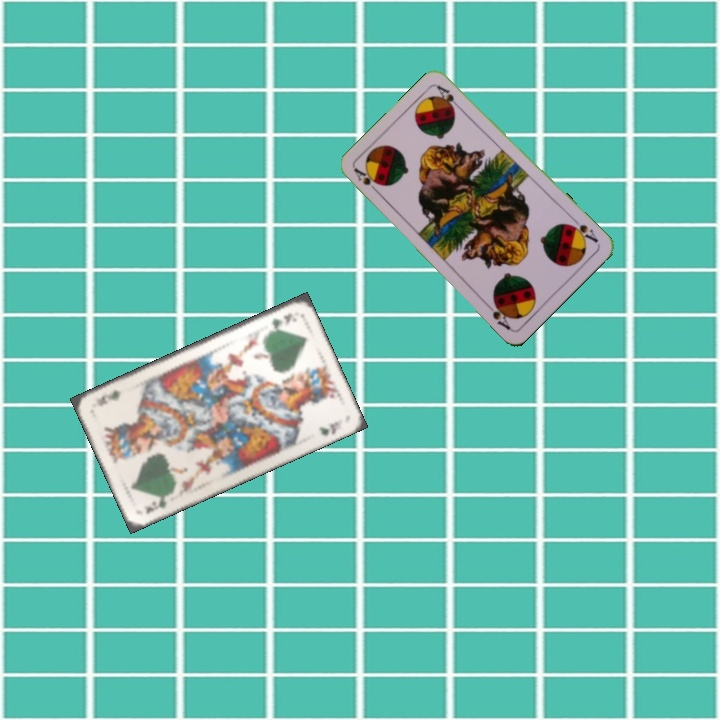GK: (141, 489, 173, 517), (267, 309, 294, 331)
SA: (350, 164, 382, 197), (564, 219, 601, 245)
